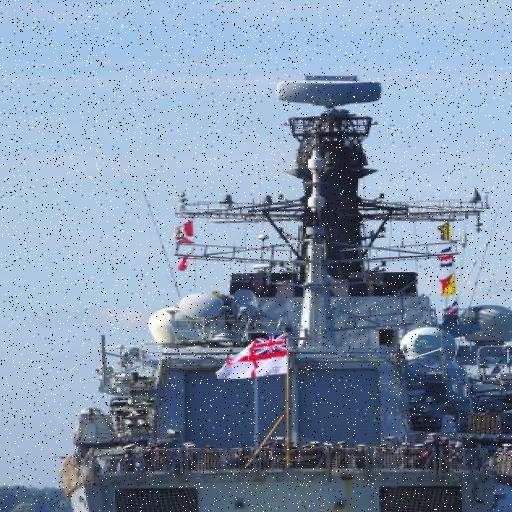Fragata: (56, 60, 512, 512)
